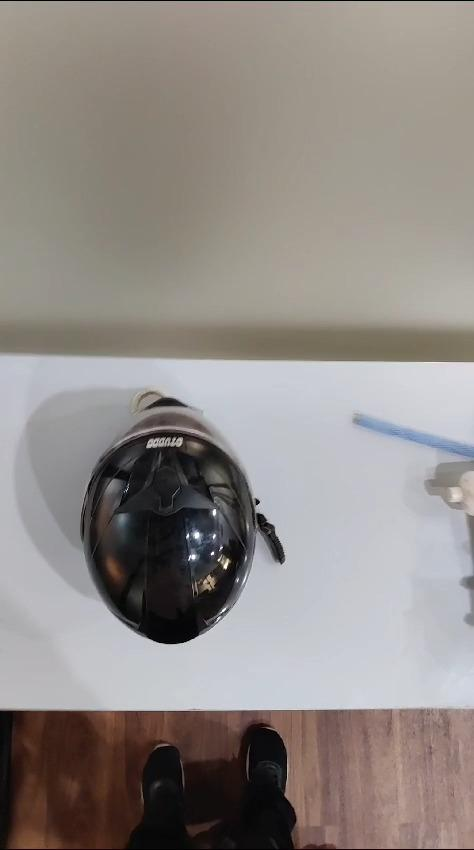Helmet: (56, 402, 289, 657)
